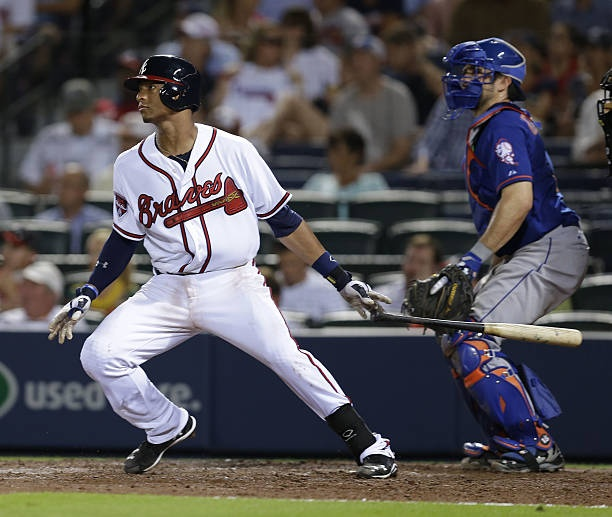bita: (374, 303, 585, 350)
